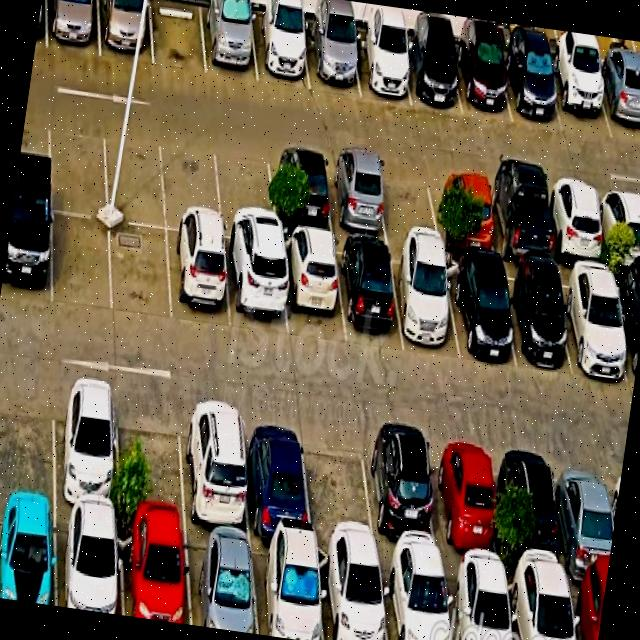empty: (303, 419, 377, 553), (117, 389, 186, 527), (0, 373, 55, 505), (214, 139, 277, 245), (104, 123, 166, 228), (163, 132, 222, 236), (111, 222, 171, 324), (49, 114, 107, 218), (53, 213, 112, 312), (376, 159, 440, 245), (150, 0, 207, 74)
occupied: (362, 426, 441, 562), (428, 433, 501, 571), (181, 398, 250, 536), (242, 408, 312, 542), (501, 441, 567, 577), (54, 378, 119, 516), (556, 266, 630, 380), (554, 449, 614, 582), (444, 258, 516, 367), (497, 264, 571, 370), (390, 248, 460, 360), (184, 529, 258, 634), (119, 520, 190, 625), (251, 539, 323, 640), (336, 240, 403, 348), (280, 233, 345, 343), (57, 509, 122, 615), (317, 547, 387, 640), (167, 231, 231, 329), (224, 240, 287, 338), (486, 174, 554, 264), (380, 559, 451, 640), (432, 167, 497, 255), (268, 147, 333, 235), (0, 503, 55, 606), (325, 153, 389, 239), (547, 56, 612, 139), (0, 202, 52, 305), (443, 564, 513, 640), (545, 181, 607, 266), (502, 46, 562, 131), (506, 571, 575, 640), (454, 40, 512, 122), (401, 37, 462, 114), (251, 12, 310, 89), (201, 3, 258, 82), (351, 30, 411, 105), (305, 23, 360, 95), (592, 61, 640, 143), (596, 186, 640, 269), (98, 0, 153, 64), (612, 272, 640, 386), (47, 0, 100, 56), (567, 578, 606, 640)
